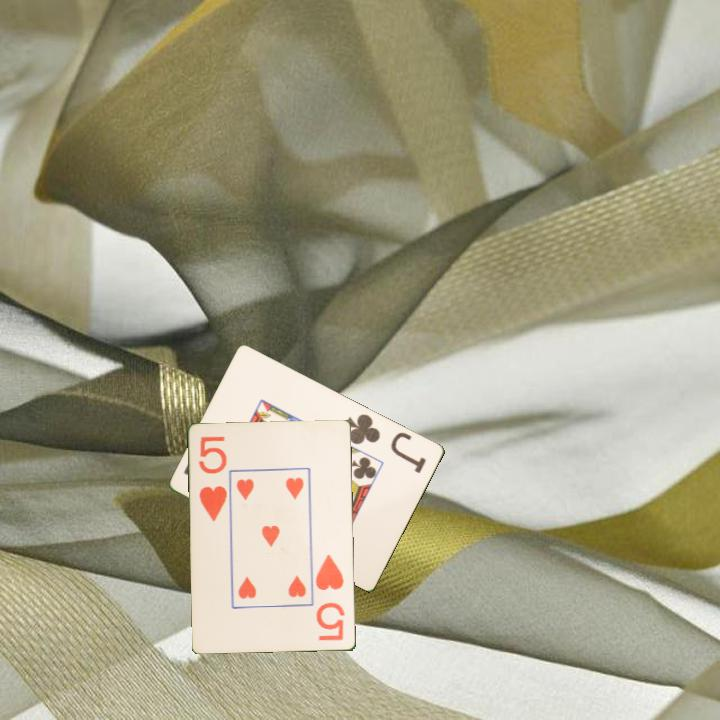5h: (313, 551, 348, 644), (196, 433, 230, 525)
Jc: (342, 410, 429, 476)
